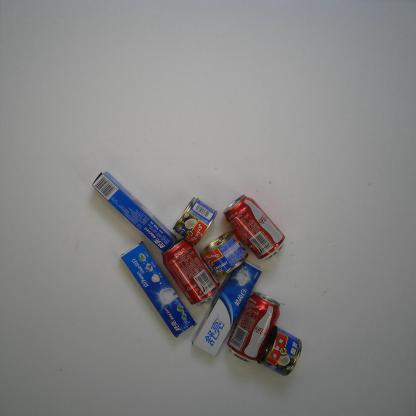Canned Food: (257, 324, 302, 377), (172, 196, 218, 246), (200, 230, 249, 276)
Drink: (222, 194, 286, 261), (161, 237, 220, 306), (226, 292, 280, 363)
Personal Hygiene: (119, 241, 196, 339), (92, 171, 177, 254), (191, 261, 262, 357)
